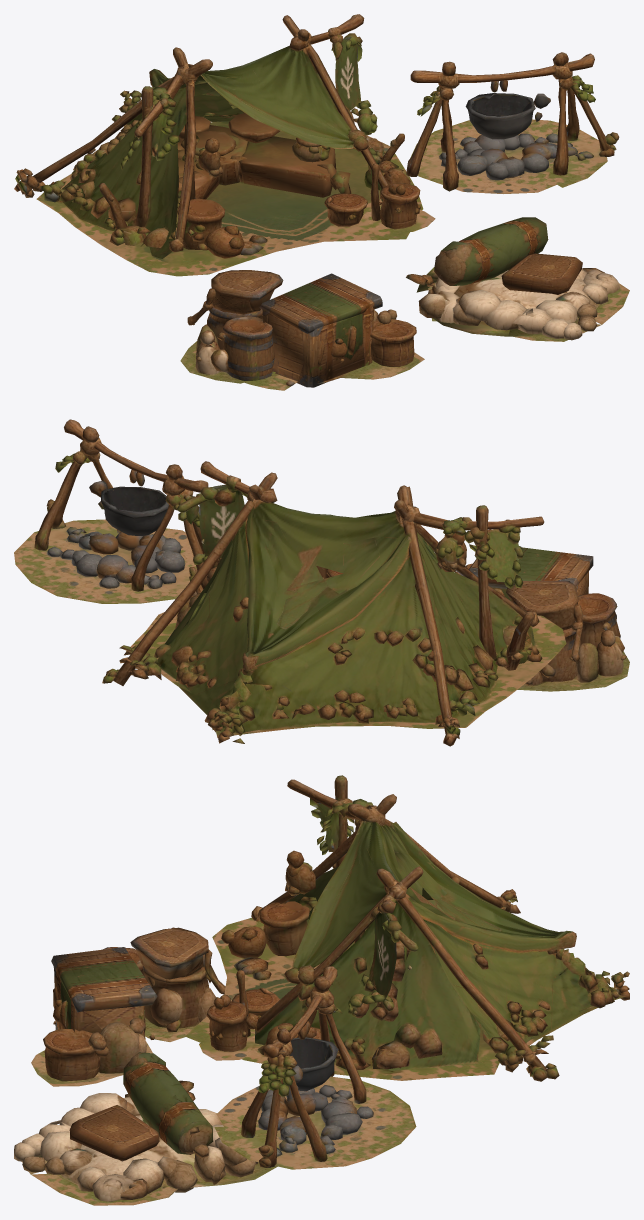
Rendered from campamento.glb.
3 views of the same model, one above another, from view 1: azimuth 30°, elevation 25°; view 2: azimuth 150°, elevation 25°; view 3: azimuth 270°, elevation 25° (orthographic). The views are drawn at different scales.
Parts seen in each view (by area): view 1: campamento_tienda, campamento_cofre, campamento_cazo, campamento_rocas; view 2: campamento_tienda, campamento_cazo, campamento_cofre; view 3: campamento_tienda, campamento_rocas, campamento_cazo, campamento_cofre.
Part boxes in pixels (x1,y1,x2,y2): campamento_tienda: (14,14,423,282); campamento_cofre: (180,270,424,390); campamento_cazo: (399,52,619,193); campamento_rocas: (401,175,629,341); campamento_tienda: (102,461,566,746); campamento_cazo: (14,419,217,603); campamento_cofre: (455,547,629,691); campamento_tienda: (179,775,629,1087); campamento_rocas: (14,1007,238,1205); campamento_cazo: (213,966,416,1184); campamento_cofre: (31,927,219,1086).
Size of the model in its own units: 1 by 0.4419 by 1.
Materials: 1 (1 with a texture image).
